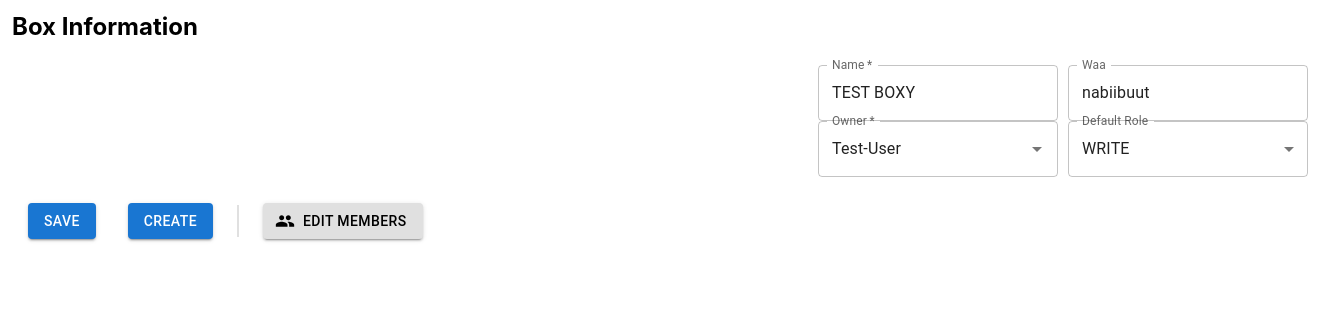
Scenario: BoxForm › Field Editing › Default Role field › can select role
Click the dropdown labelled "WRITE". click: [1106, 149]
box: [1082, 139, 1130, 158]
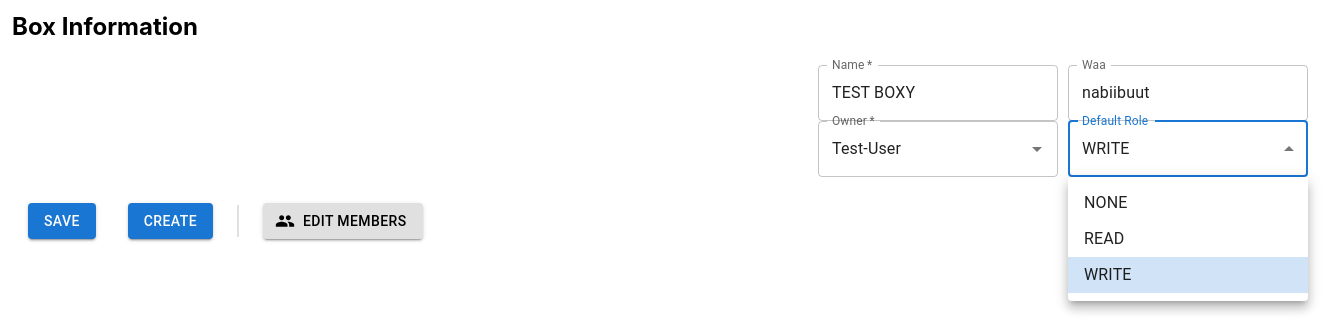
Check: the option "NONE" is shown
Click the option "NONE". click: [1106, 202]
box: [1084, 193, 1128, 212]
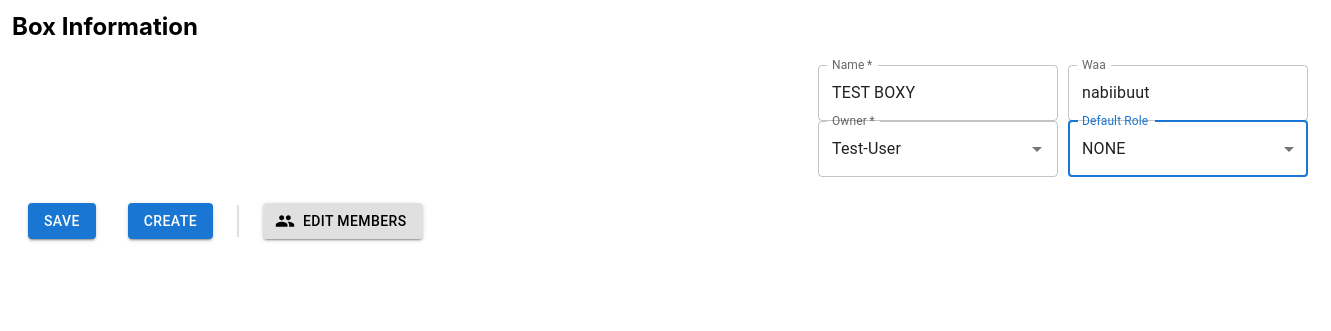
Check: the dropdown named "Default Role" reads "NONE"
Click the dropdown labelled "NONE". click: [1104, 149]
box: [1082, 139, 1126, 158]
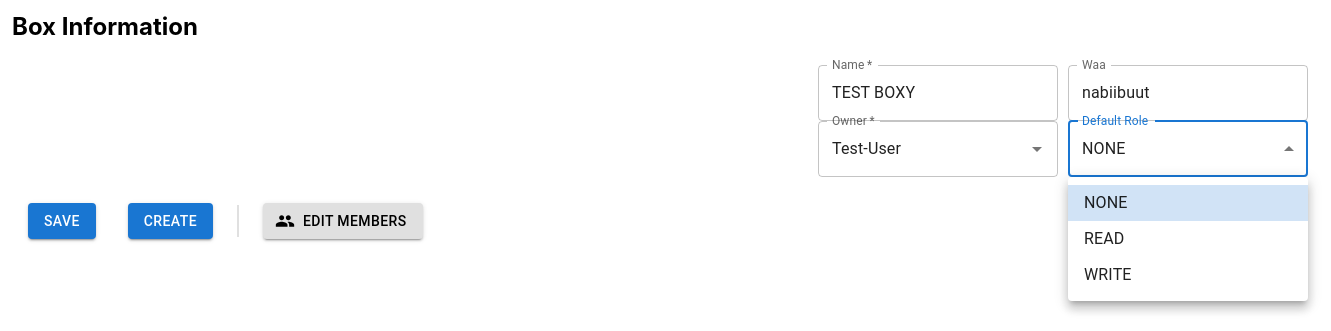
Check: the option "READ" is shown
Click the option "READ". click: [1104, 238]
box: [1084, 229, 1124, 248]
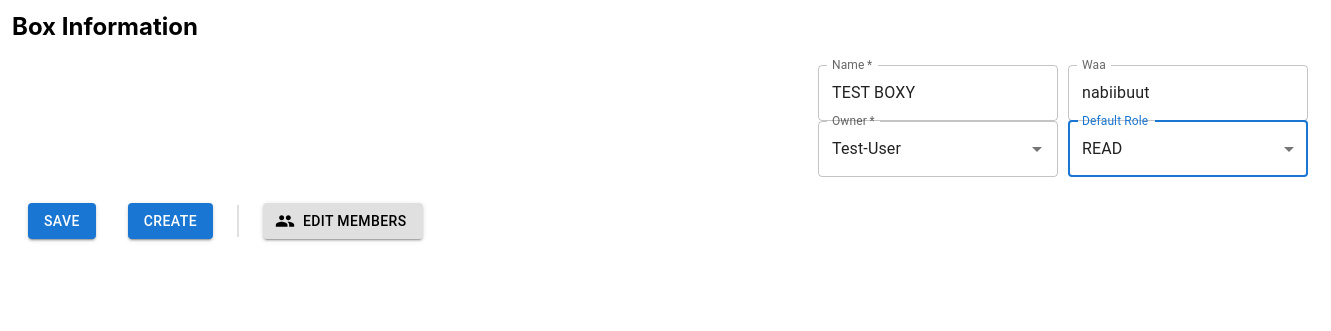
Check: the dropdown named "Default Role" reads "READ"
Click the dropdown labelled "READ". click: [1102, 149]
box: [1082, 139, 1122, 158]
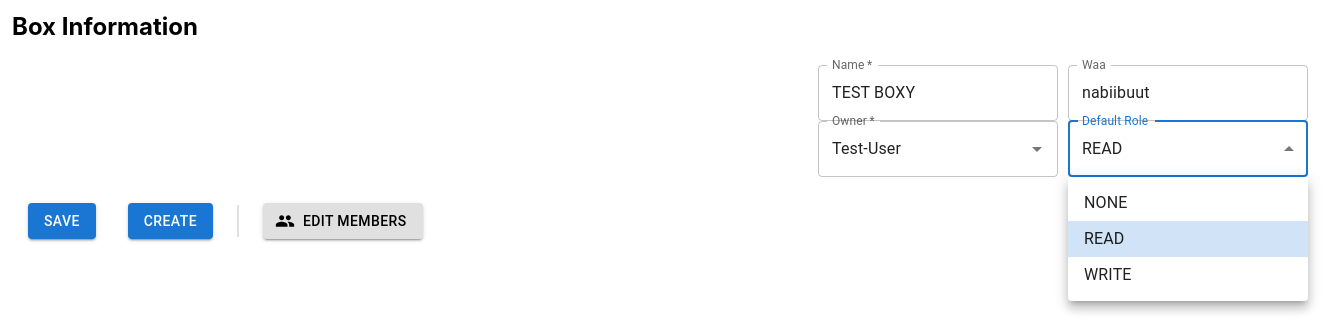
Check: the option "WRITE" is shown
Click the option "WRITE". click: [1108, 274]
box: [1084, 265, 1132, 284]
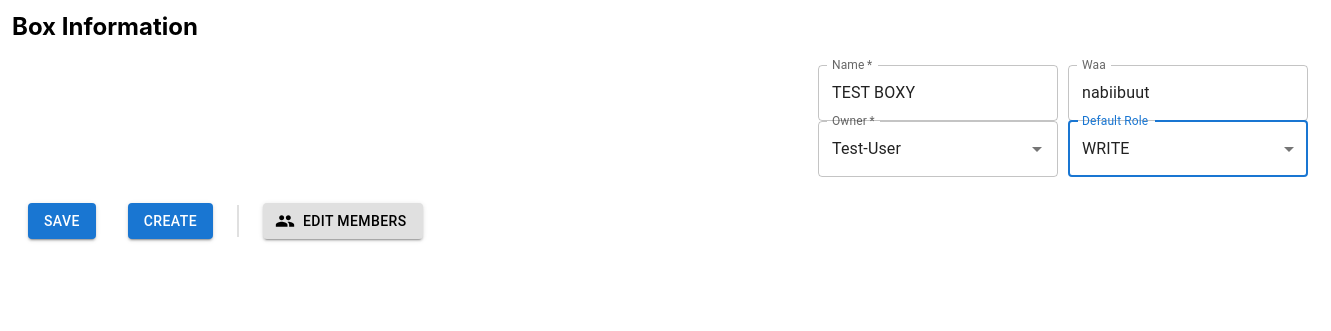
Check: the dropdown named "Default Role" reads "WRITE", box [1082, 139, 1130, 158]
